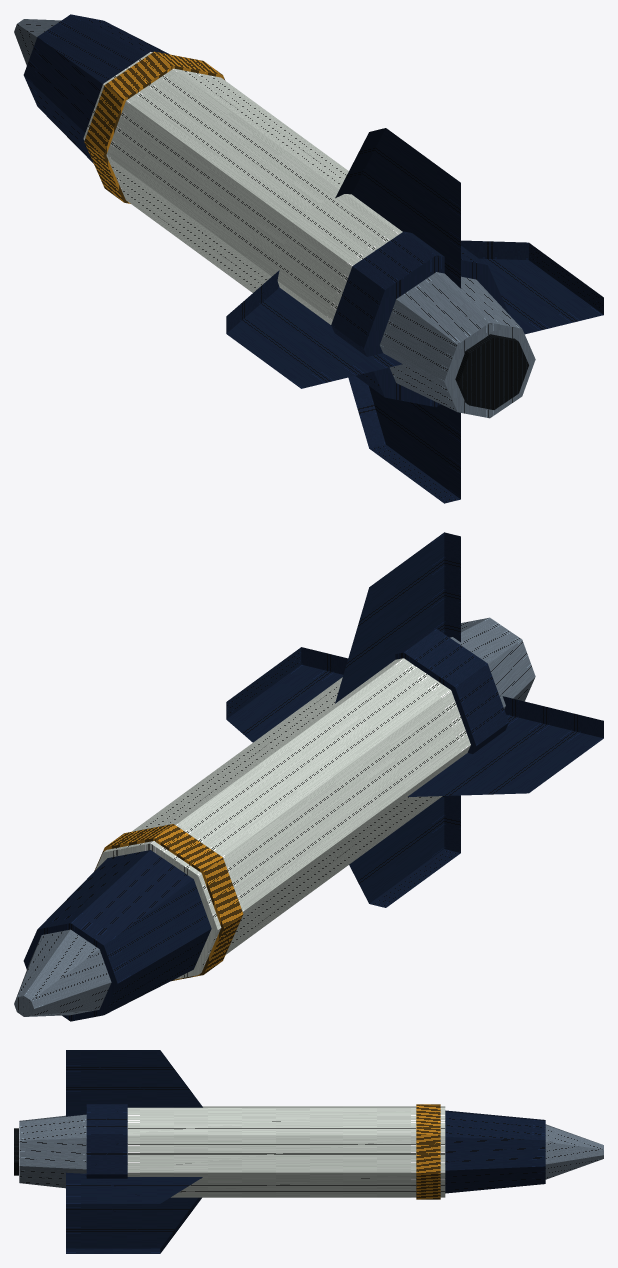
Rendered from seeker.glb.
3 views of the same model, one above another, from view 1: azimuth 30°, elevation 25°; view 2: azimuth 150°, elevation 25°; view 3: azimuth 270°, elevation 25° (orthographic). The views are drawn at different scales.
Parts seen in each view (by area): view 1: seeker-ordnance; view 2: seeker-ordnance; view 3: seeker-ordnance.
Boxes of the visible parts, left/top/right/bottom form: seeker-ordnance: left=14, top=14, right=603, bottom=503; seeker-ordnance: left=14, top=532, right=603, bottom=1021; seeker-ordnance: left=14, top=1050, right=603, bottom=1253.
Size of the model in its own units: 0.9 by 0.9 by 2.42.
1 material, 1 textured.
